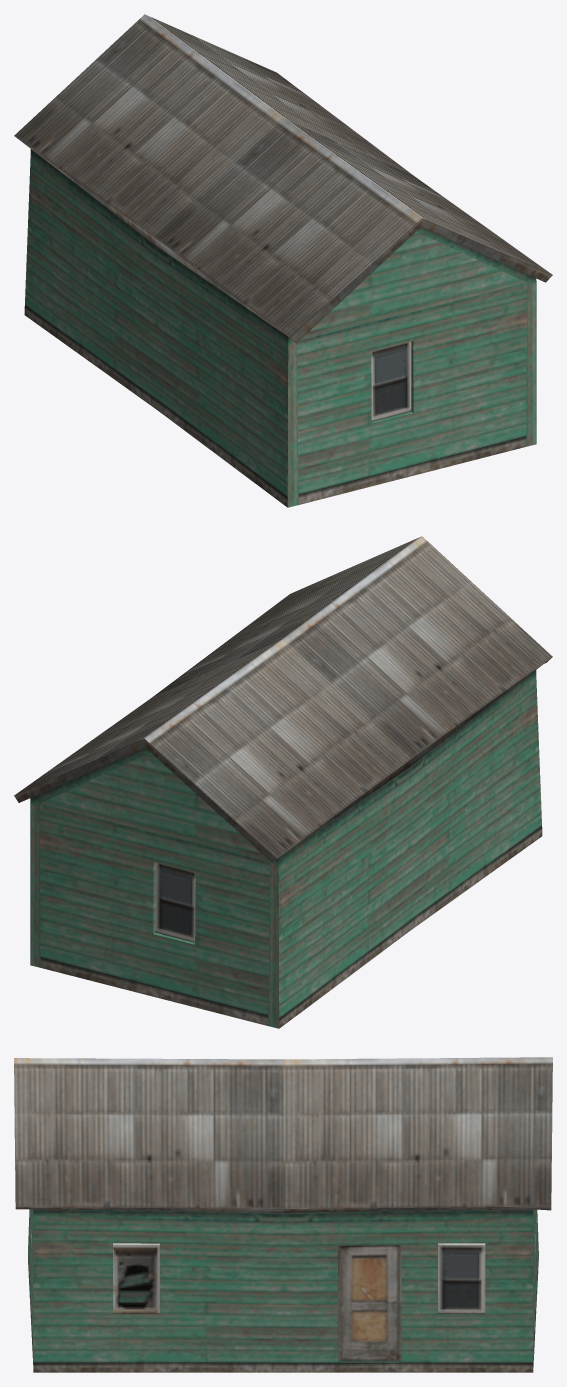
Rendered from house01.glb.
3 views of the same model, one above another, from view 1: azimuth 30°, elevation 25°; view 2: azimuth 150°, elevation 25°; view 3: azimuth 270°, elevation 25° (orthographic). The views are drawn at different scales.
Parts seen in each view (by area): view 1: house01_elements_0; view 2: house01_elements_0; view 3: house01_elements_0.
Part boxes in pixels (x1,y1,x2,y2): house01_elements_0: (14, 14, 552, 507); house01_elements_0: (14, 536, 552, 1028); house01_elements_0: (14, 1057, 552, 1372).
Bounding box in the file's own units: 4.75 × 4.57 × 8.69.
1 material, 1 textured.
